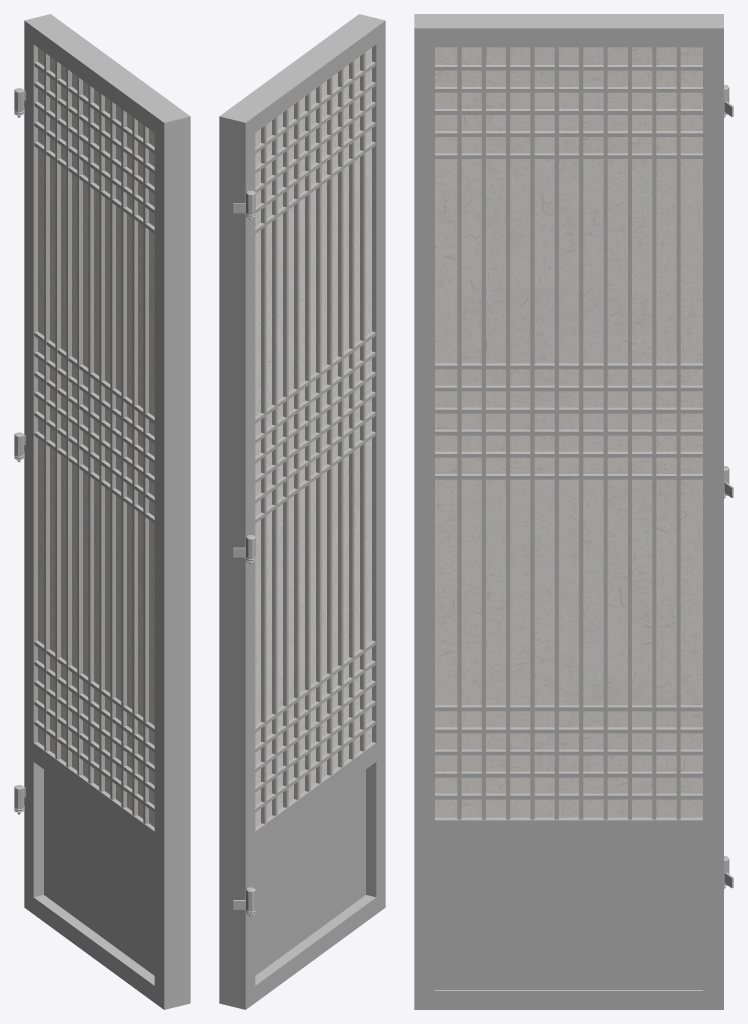
Rendered from SM_GlassDoor01C-a.fbx.
The picture shows the model from 3 angles, left to right: view 1: azimuth 30°, elevation 25°; view 2: azimuth 150°, elevation 25°; view 3: azimuth 270°, elevation 25°; orthographic projection. The views are drawn at different scales.
Visible parts, largest first — view 1: SM_GlassDoor01C-a; view 2: SM_GlassDoor01C-a; view 3: SM_GlassDoor01C-a.
Part boxes in pixels (left/top/right/bottom): SM_GlassDoor01C-a: left=14, top=14, right=190, bottom=1009; SM_GlassDoor01C-a: left=219, top=14, right=385, bottom=1009; SM_GlassDoor01C-a: left=414, top=14, right=733, bottom=1009.
Size of the model in its own units: 7.69 by 53.53 by 181.
